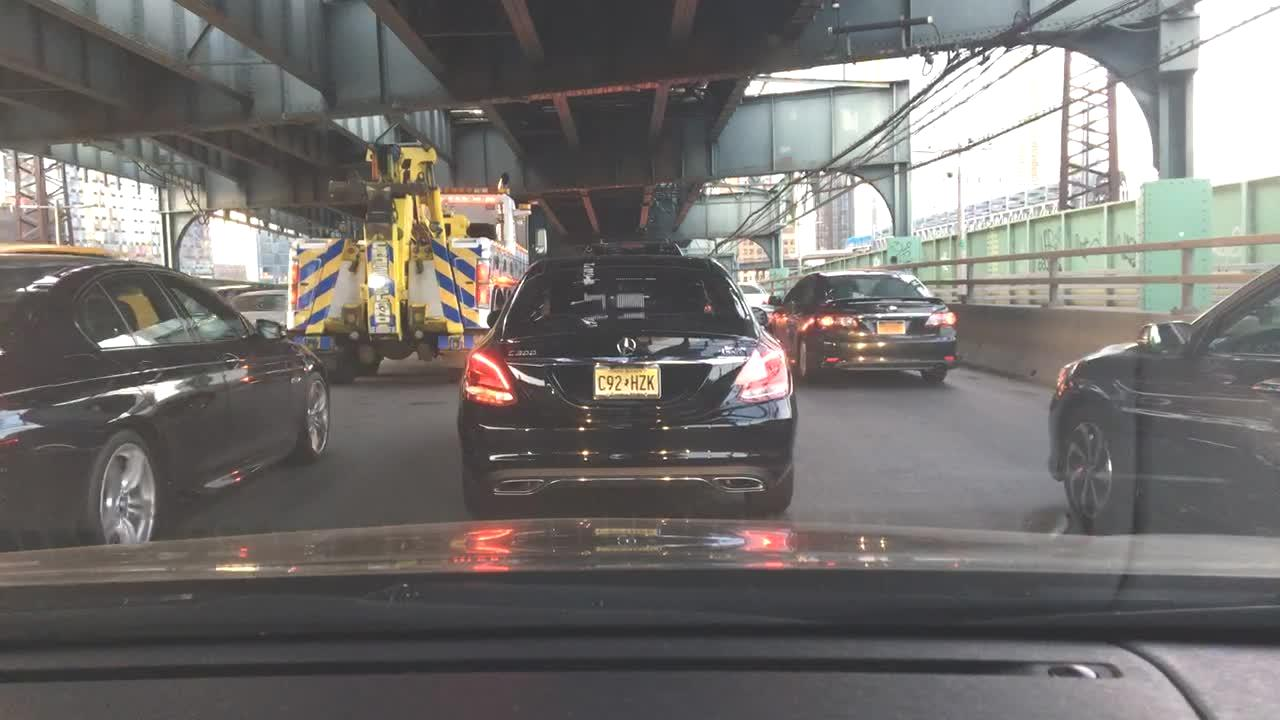Mercedes: (613, 335, 641, 357)
